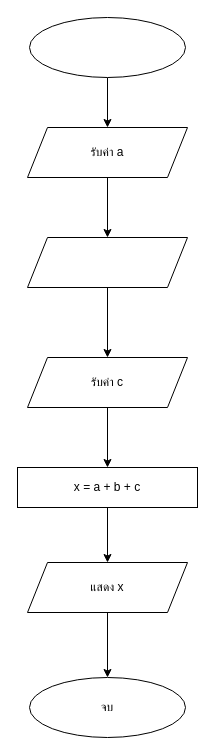
Image size: 215x755. Some labels were removed from this diagram. The centre of each missing label's shape, as x and y in pixels:
รับค่า b: [107,262]
เริ่ม: [107,47]
